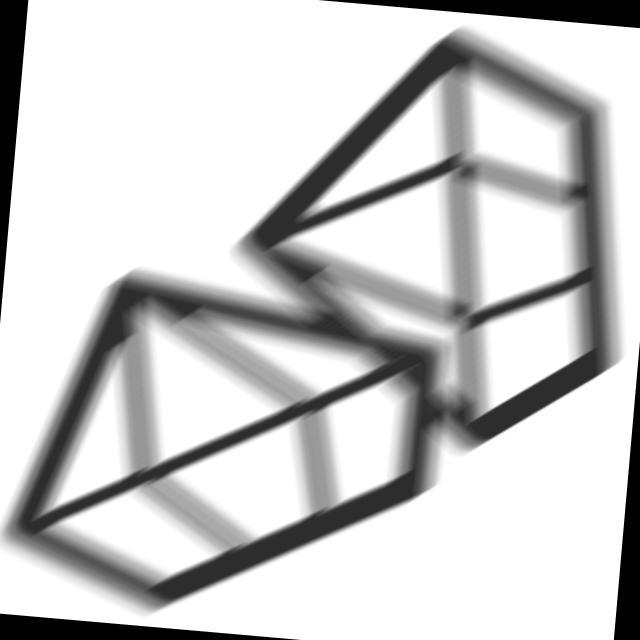diamond: (199, 1, 640, 475), (1, 237, 479, 640)
